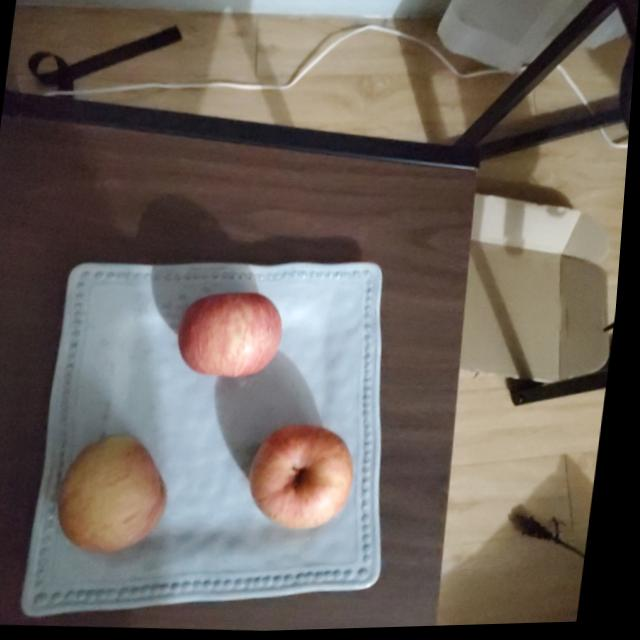apple: (57, 431, 181, 558), (253, 425, 365, 534), (177, 290, 291, 383)
